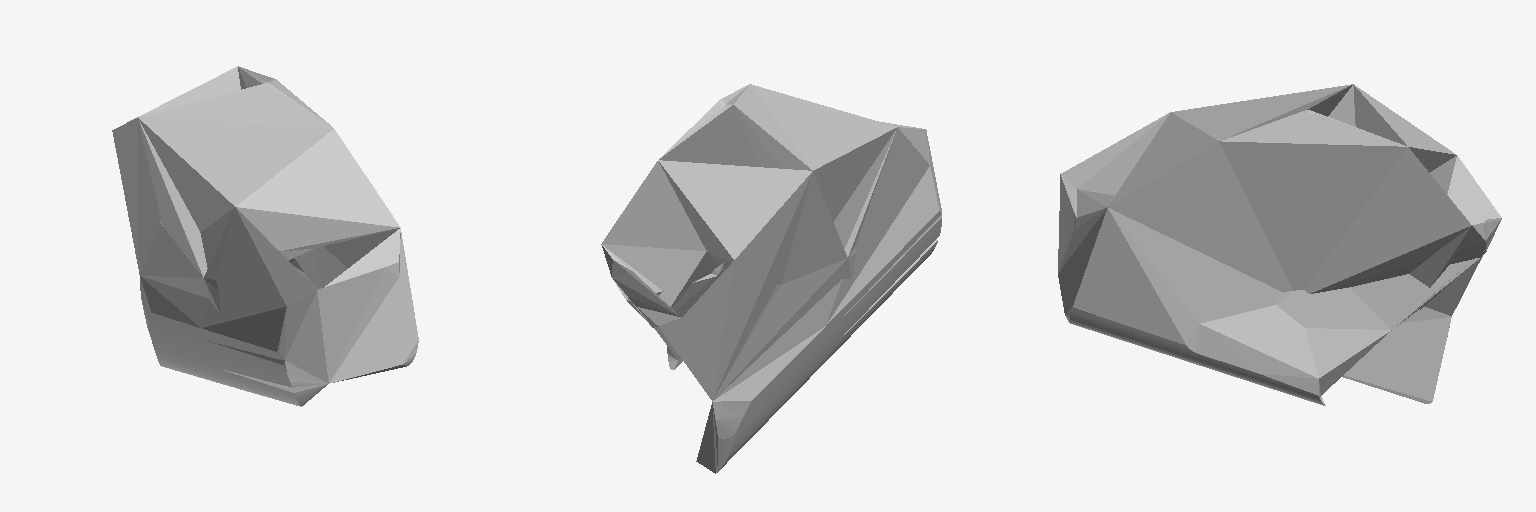
Rendered from right_collision_palm_skin_mesh_mesh.obj.
The picture shows the model from 3 angles: view 1: azimuth 30°, elevation 25°; view 2: azimuth 150°, elevation 25°; view 3: azimuth 270°, elevation 25°; orthographic projection.
Size of the model in its own units: 0.0333 by 0.0618 by 0.0783.